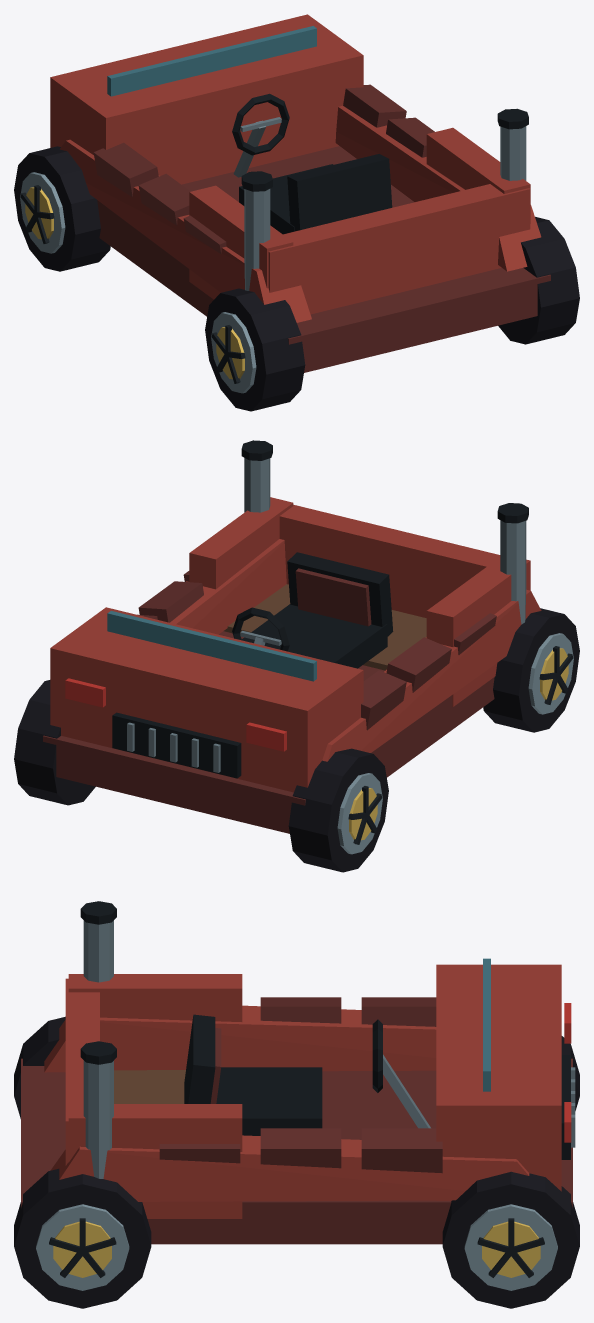
The model's file is kart.glb.
3 views of the same model, one above another, from view 1: azimuth 30°, elevation 25°; view 2: azimuth 150°, elevation 25°; view 3: azimuth 270°, elevation 25° (orthographic). The views are drawn at different scales.
Parts seen in each view (by area): view 1: identity-truck-truck-utility-body, wheel-rear-left, identity-truck-driver-cockpit, wheel-front-left, identity-truck-motif-armor, wheel-rear-right, identity-truck-motif-exhaust; view 2: identity-truck-truck-utility-body, identity-truck-driver-cockpit, wheel-front-left, wheel-rear-left, identity-truck-motif-armor, wheel-front-right, identity-truck-motif-exhaust; view 3: identity-truck-truck-utility-body, wheel-front-right, wheel-rear-right, identity-truck-motif-armor, identity-truck-driver-cockpit, identity-truck-motif-exhaust, wheel-rear-left.
Part boxes in pixels (box(x1,y1,x2,y2)): identity-truck-truck-utility-body: box(50, 14, 550, 372); wheel-rear-left: box(205, 288, 305, 411); identity-truck-driver-cockpit: box(232, 93, 392, 234); wheel-front-left: box(14, 146, 110, 271); identity-truck-motif-armor: box(93, 84, 434, 253); wheel-rear-right: box(498, 216, 579, 344); identity-truck-motif-exhaust: box(241, 108, 528, 290); identity-truck-truck-utility-body: box(43, 497, 541, 833); identity-truck-driver-cockpit: box(232, 552, 393, 668); wheel-front-left: box(288, 748, 388, 872); wheel-rear-left: box(483, 608, 579, 732); identity-truck-motif-armor: box(137, 571, 496, 730); wheel-front-right: box(14, 680, 95, 805); identity-truck-motif-exhaust: box(241, 440, 528, 624); identity-truck-truck-utility-body: box(21, 958, 575, 1244); wheel-front-right: box(442, 1171, 579, 1308); wheel-rear-right: box(14, 1168, 151, 1308); identity-truck-motif-armor: box(159, 997, 442, 1173); identity-truck-driver-cockpit: box(184, 1014, 430, 1135); identity-truck-motif-exhaust: box(80, 901, 116, 1178); wheel-rear-left: box(14, 1016, 65, 1118).
Bounding box in the file's own units: 2.13 × 1.33 × 2.8.
